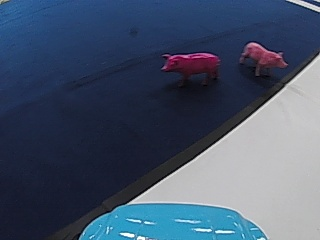pig: (158, 48, 221, 88), (238, 39, 289, 78)
